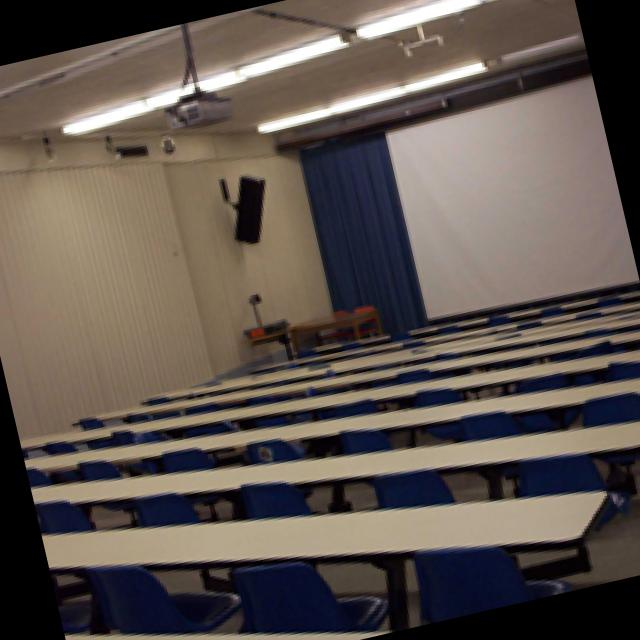camera crop: (172, 24, 227, 126)
chair part: (410, 544, 565, 620), (227, 560, 384, 628), (81, 565, 237, 631), (515, 454, 606, 495), (371, 467, 454, 507), (237, 482, 310, 515), (579, 389, 640, 424), (130, 491, 199, 521), (455, 409, 522, 437), (33, 499, 90, 530), (243, 437, 300, 460), (158, 446, 214, 469), (335, 428, 390, 451), (75, 458, 118, 478), (26, 468, 46, 482)
curtain crop: (295, 119, 421, 340)
desk calendar: (20, 283, 640, 447), (40, 492, 609, 630), (23, 373, 640, 468), (29, 419, 640, 500), (285, 310, 379, 357)
desk divider: (66, 630, 374, 640)
floor -X: (32, 281, 640, 640)
lamp crop: (59, 32, 348, 136), (256, 57, 488, 134), (352, 0, 491, 40)
screen occluded: (379, 61, 634, 317)
spotlight crop: (217, 173, 261, 239)
wall clock: (0, 130, 330, 496)
